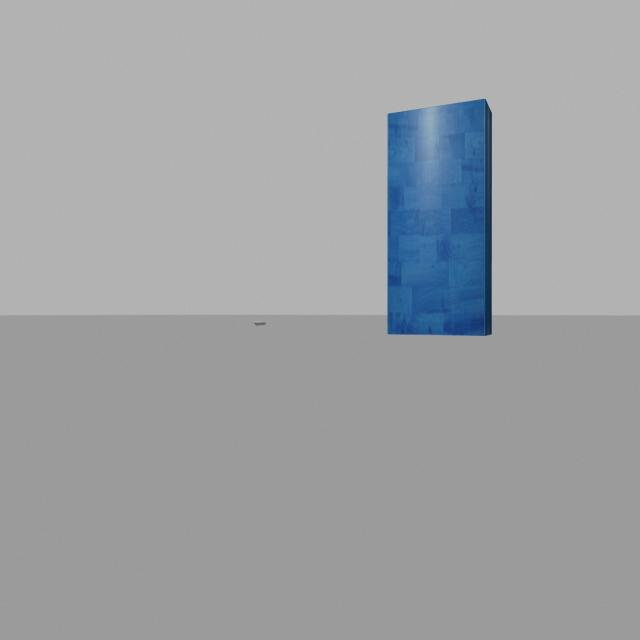bowl: (252, 318, 270, 331)
shelf: (380, 90, 500, 357)
